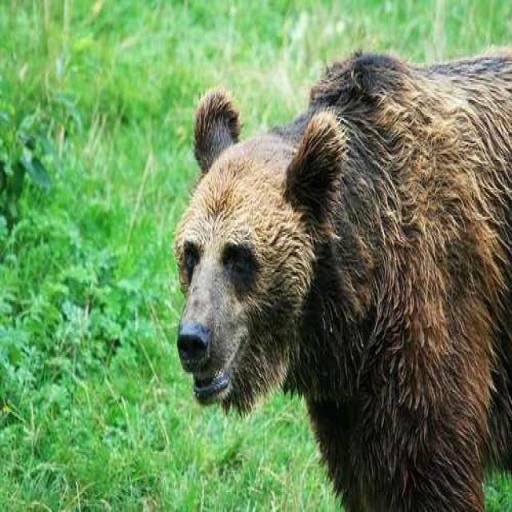Bear: (172, 46, 511, 511)
